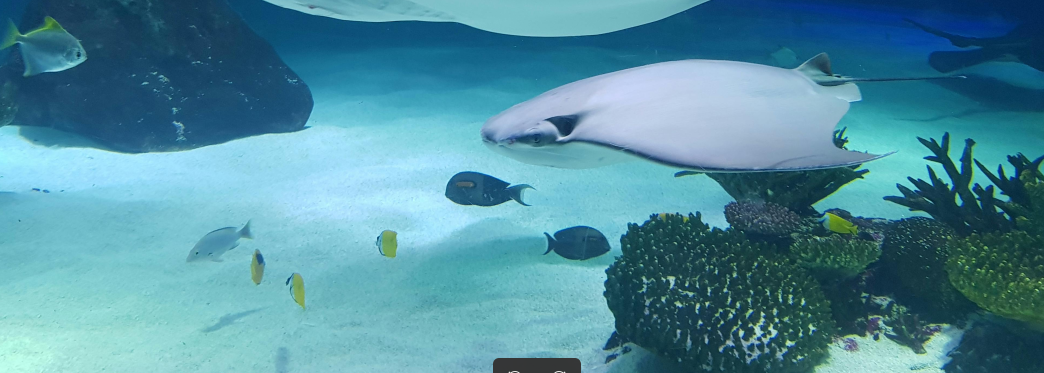fishRound: (0, 15, 89, 79), (442, 169, 537, 208), (541, 224, 610, 261), (815, 208, 857, 237), (284, 270, 306, 313), (374, 229, 399, 258), (249, 248, 268, 285)
fishSmall: (184, 219, 254, 265)
